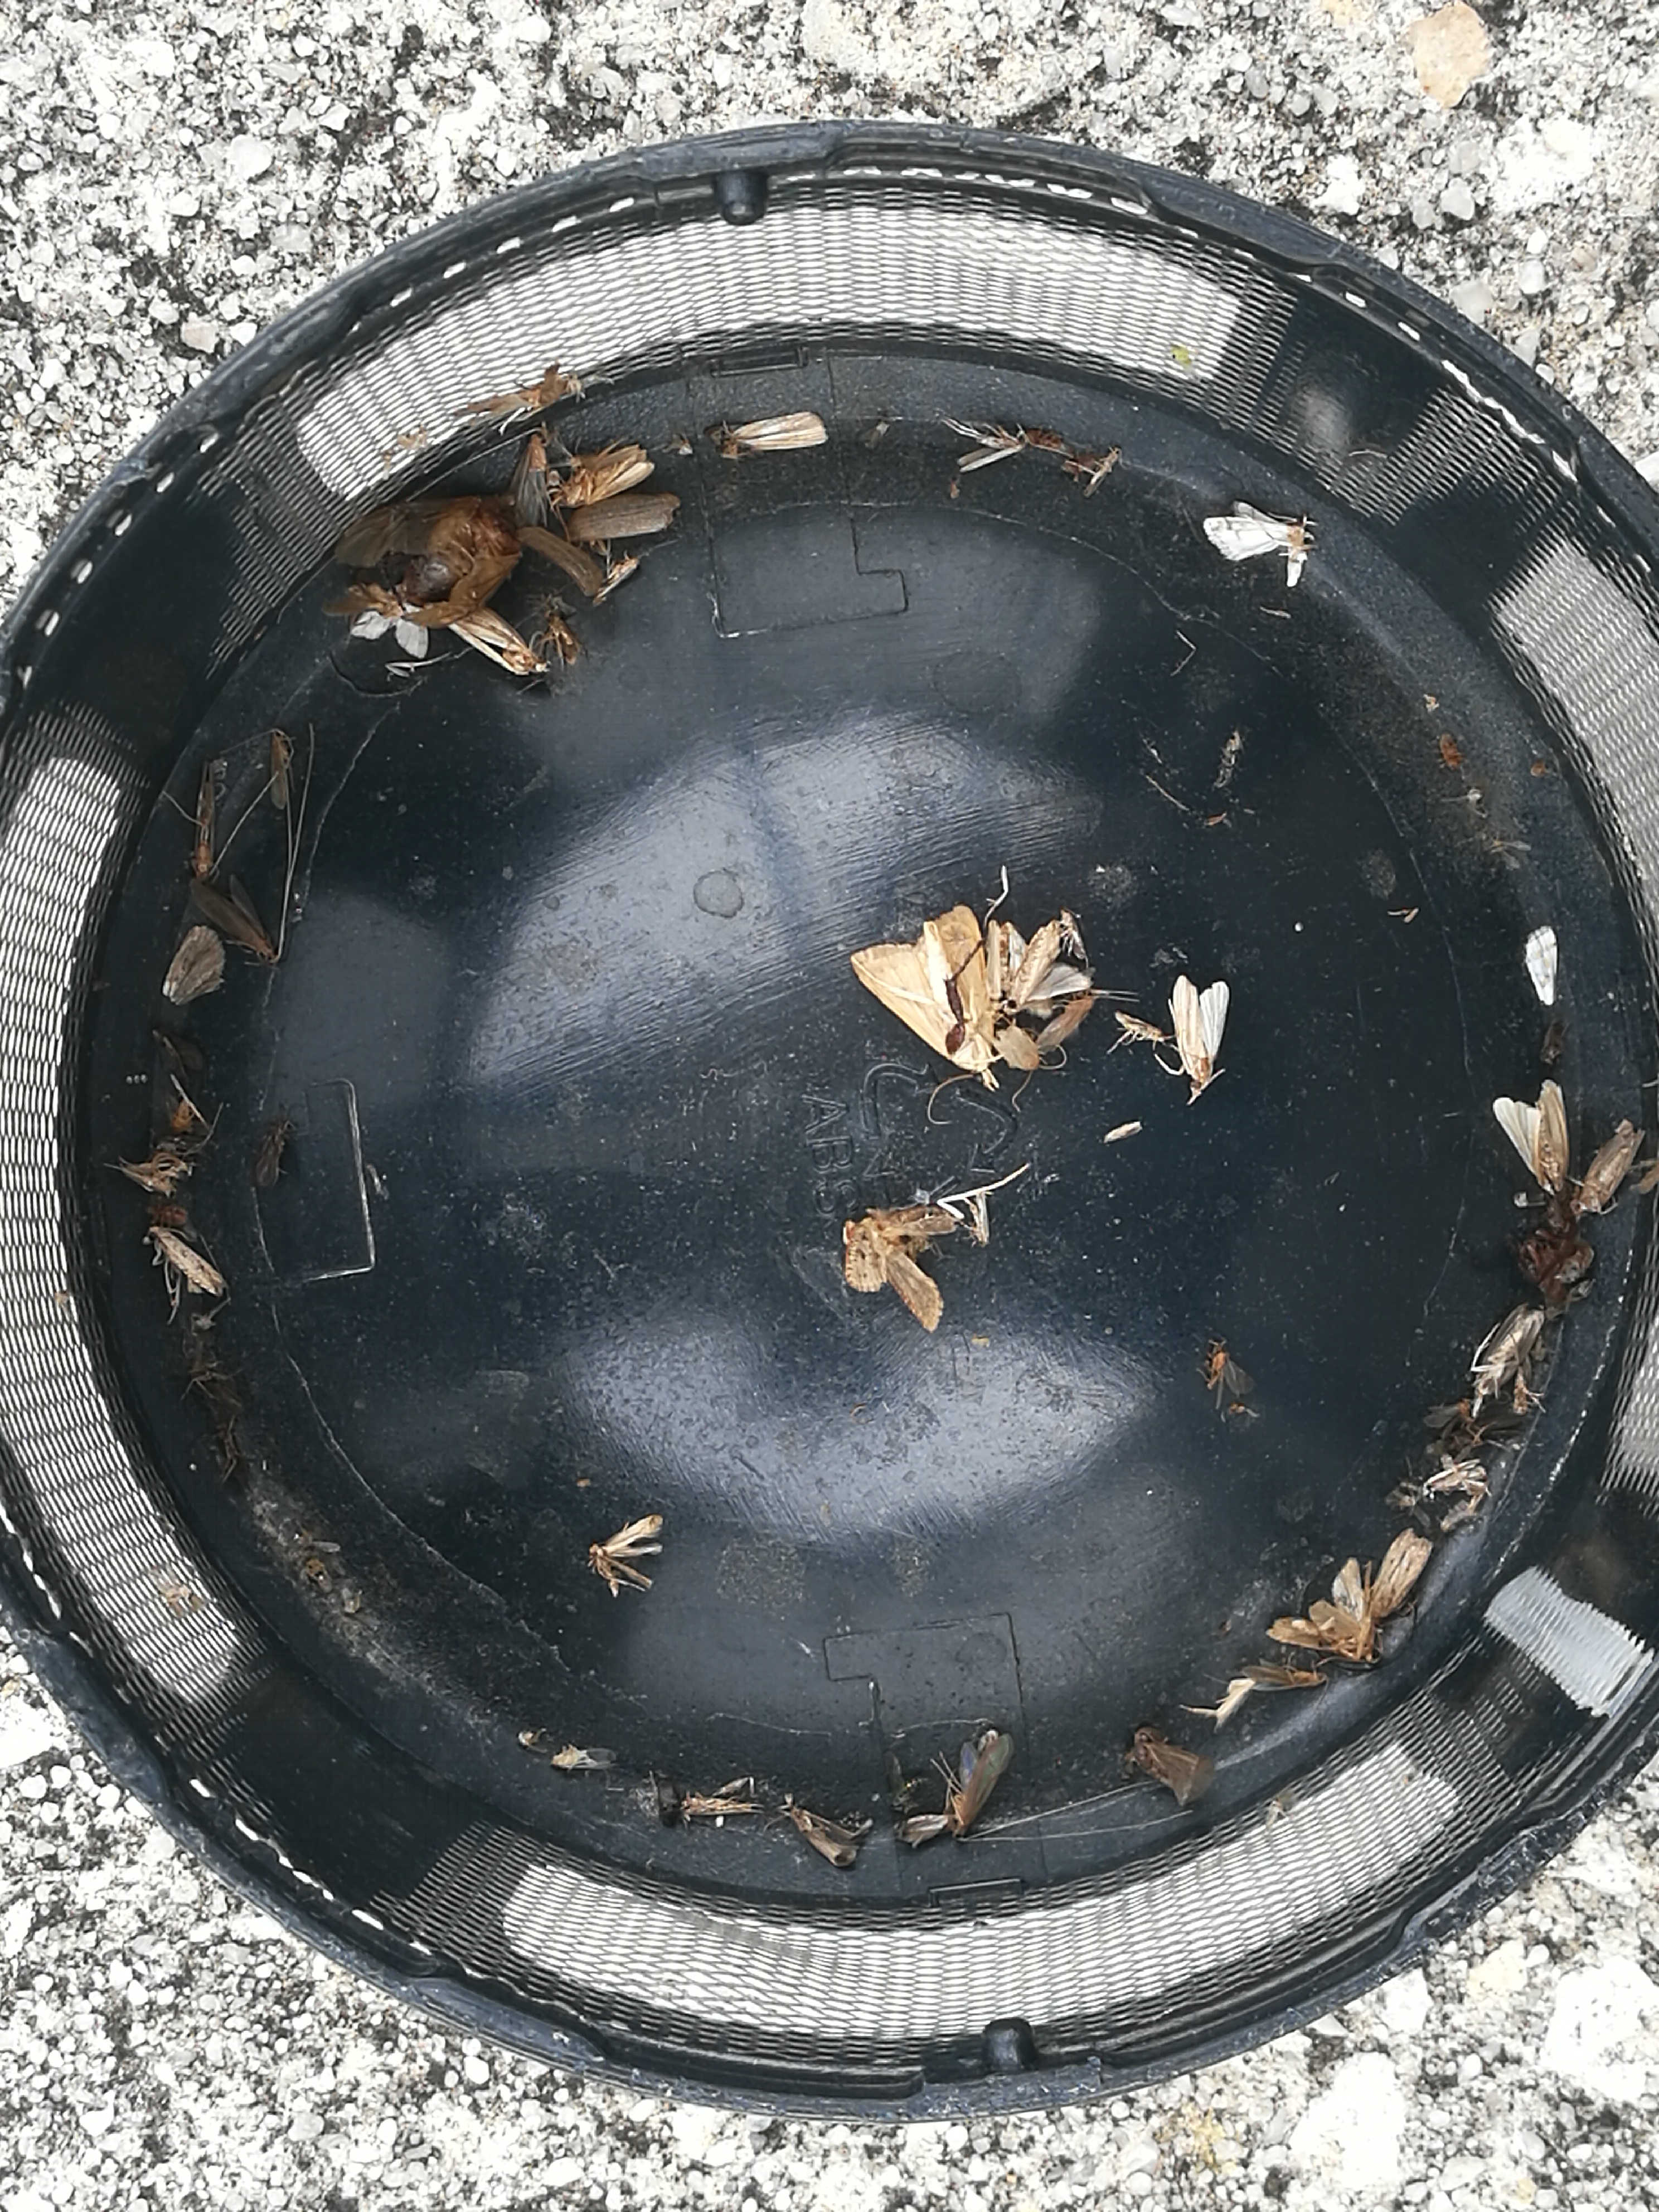beetle: (396, 496, 523, 603)
mosquito: (192, 876, 277, 963), (953, 1728, 1014, 1838), (1474, 1306, 1544, 1400), (1579, 1122, 1640, 1219), (146, 1226, 221, 1301), (450, 610, 535, 674), (1370, 1533, 1431, 1618), (511, 434, 549, 524), (193, 768, 214, 876), (1241, 1669, 1326, 1691), (270, 728, 289, 803)
moth: (850, 907, 993, 1075), (849, 1205, 957, 1329), (1269, 1557, 1375, 1663), (1493, 1080, 1568, 1195), (1006, 921, 1086, 1010), (1202, 502, 1314, 563), (1169, 974, 1227, 1083), (554, 444, 657, 503), (352, 601, 429, 660)
